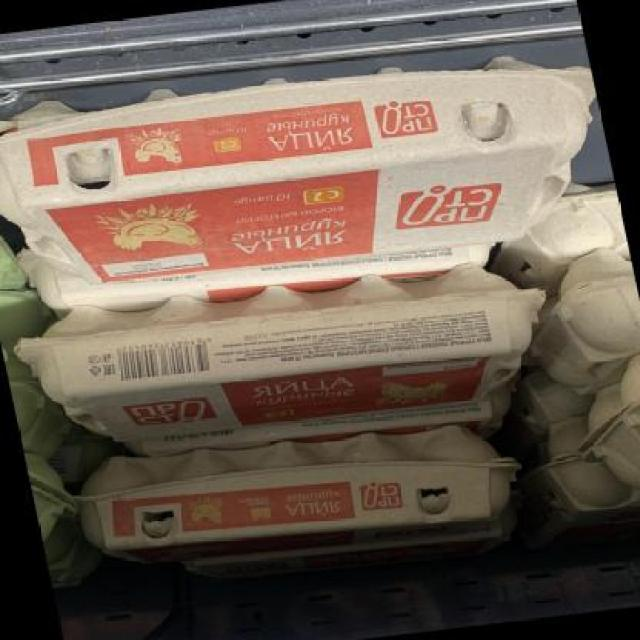egg: (0, 41, 625, 305), (11, 252, 566, 458), (66, 409, 528, 576)
